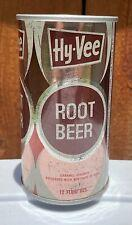metal: (18, 14, 118, 206)
